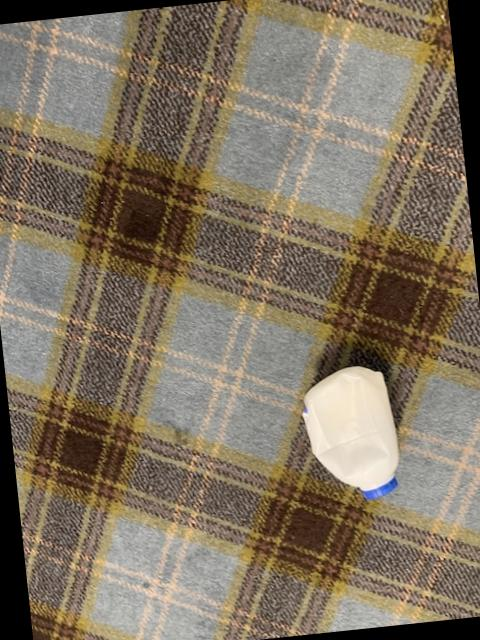plastic: (301, 365, 396, 497)
